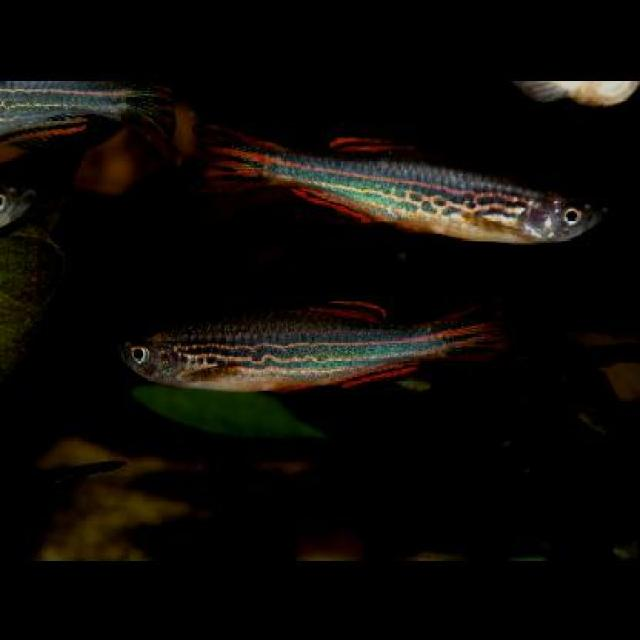ZebraFish: (192, 117, 606, 240), (116, 288, 524, 392)
